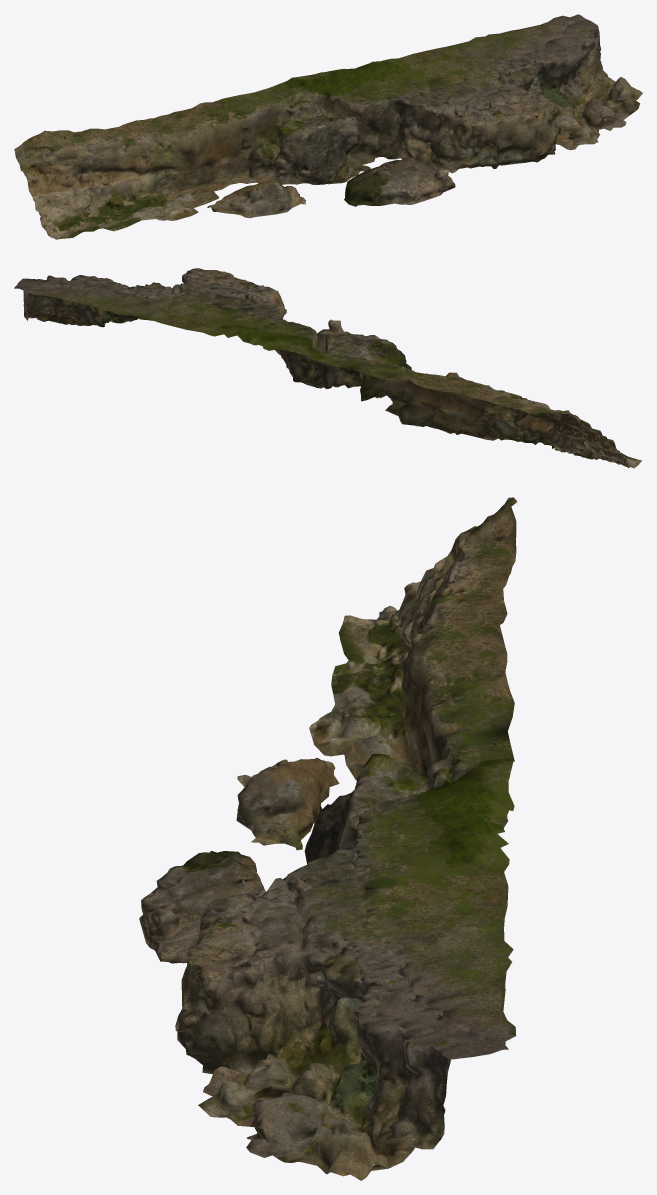
Rendered from cliff_b.jpg-1KTFyfhn.glb.
The picture shows the model from 3 angles, top to bottom: view 1: azimuth 30°, elevation 25°; view 2: azimuth 150°, elevation 25°; view 3: azimuth 270°, elevation 25°; orthographic projection. The views are drawn at different scales.
Visible parts, largest first — view 1: coastal_cliff_04; view 2: coastal_cliff_04; view 3: coastal_cliff_04.
Part boxes in pixels (bbox=[...]): coastal_cliff_04: bbox=[14, 14, 642, 239]; coastal_cliff_04: bbox=[14, 268, 642, 468]; coastal_cliff_04: bbox=[139, 497, 516, 1180].
Size of the model in its own units: 86.77 by 10.98 by 24.23.
1 material, 1 textured.
